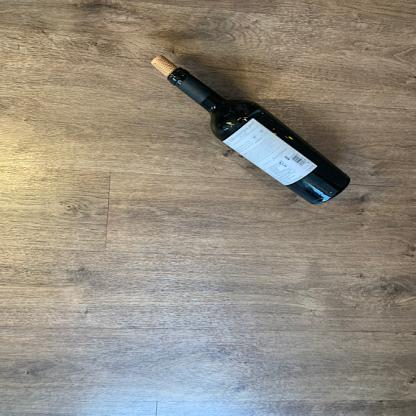trash: (169, 67, 356, 209)
